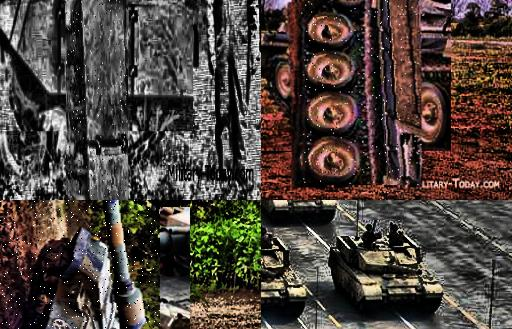tanks: (302, 2, 422, 187), (29, 201, 144, 329), (67, 2, 128, 200), (330, 226, 444, 313), (262, 229, 308, 318), (262, 201, 337, 224)
